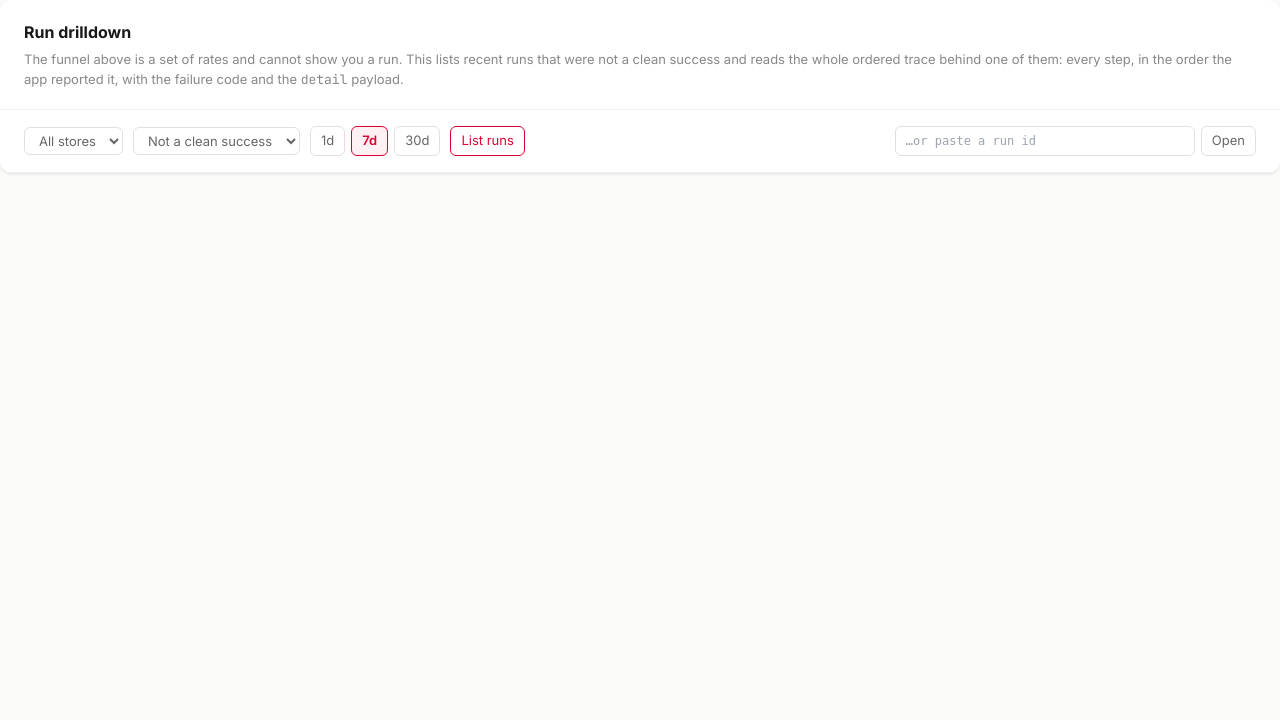
Test: AdminRunDrilldown › renders the items it missed and the per-item steps it never reported
Click the button "List runs".
click(488, 141)  # box [450,126,525,156]
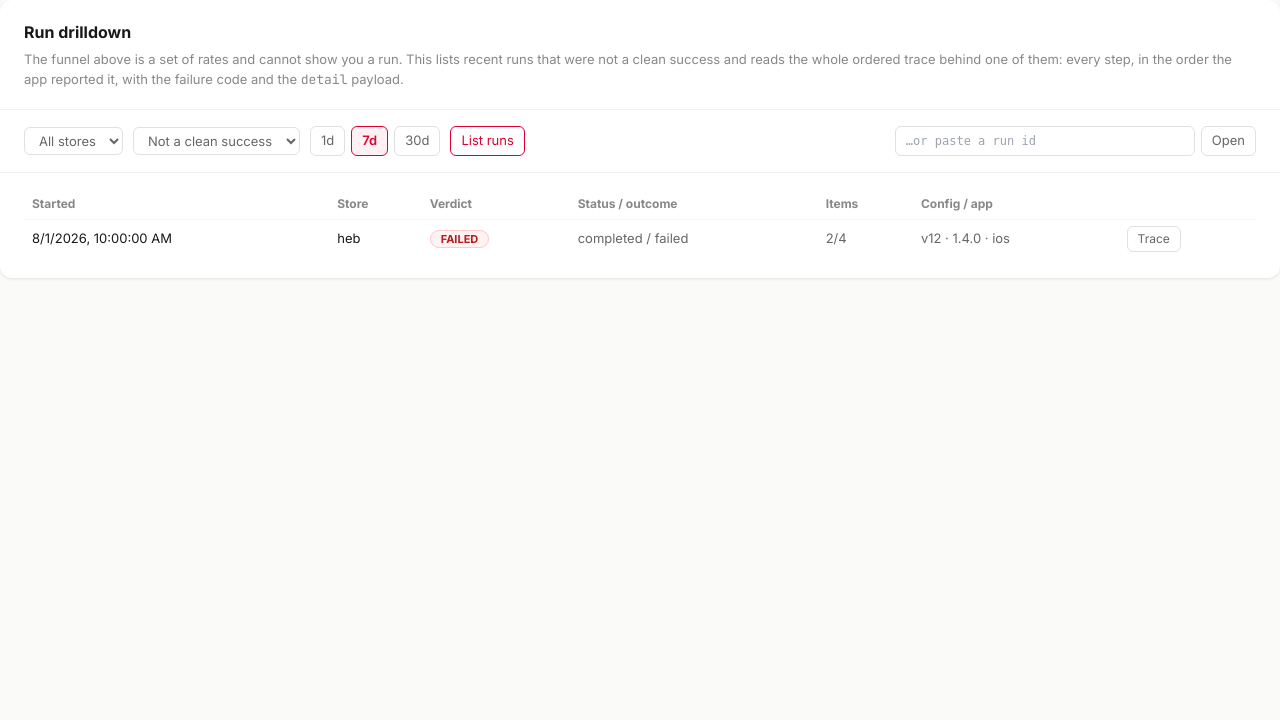
Expected: the button "Trace" is shown
Click the button "Trace".
click(1154, 238)  # box [1127,226,1181,252]
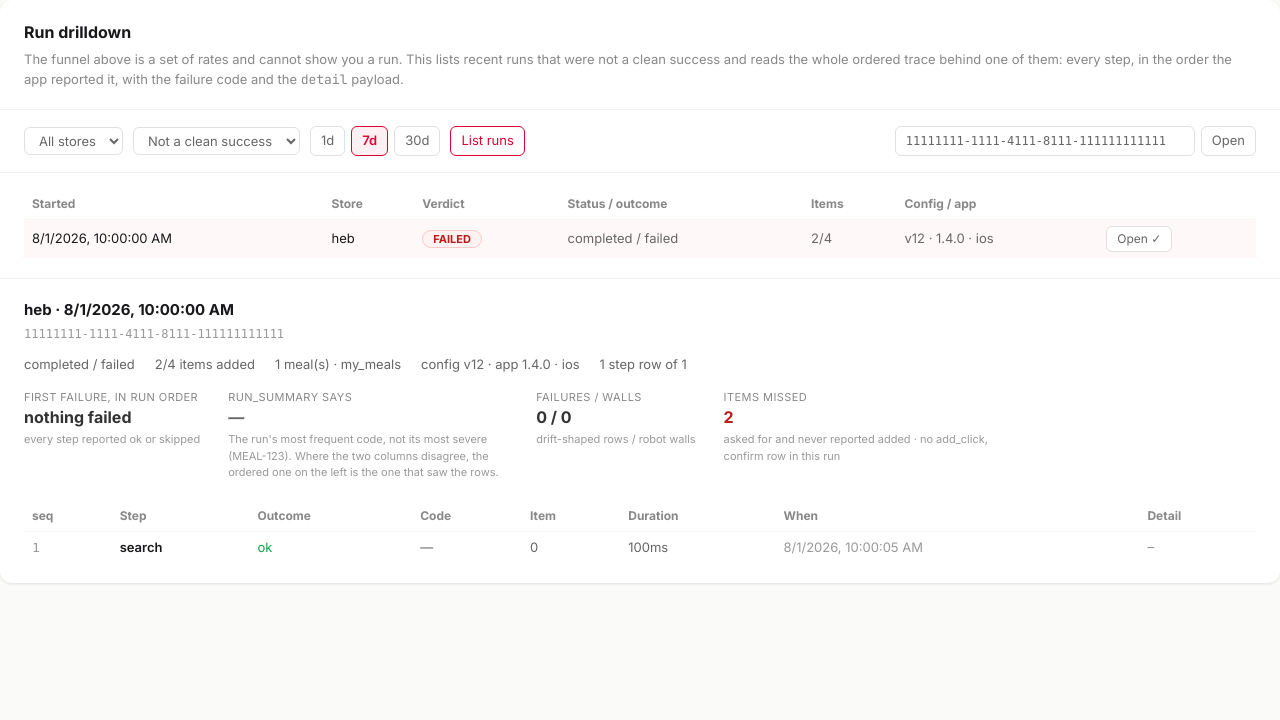
Expected: the text "First failure, in run order" is shown, [24,388,200,405]
Expected: the text "Items missed" is shown, [724,390,807,404]
Expected: the text "no add_click, confirm row in this run" is shown, [724,432,988,462]
